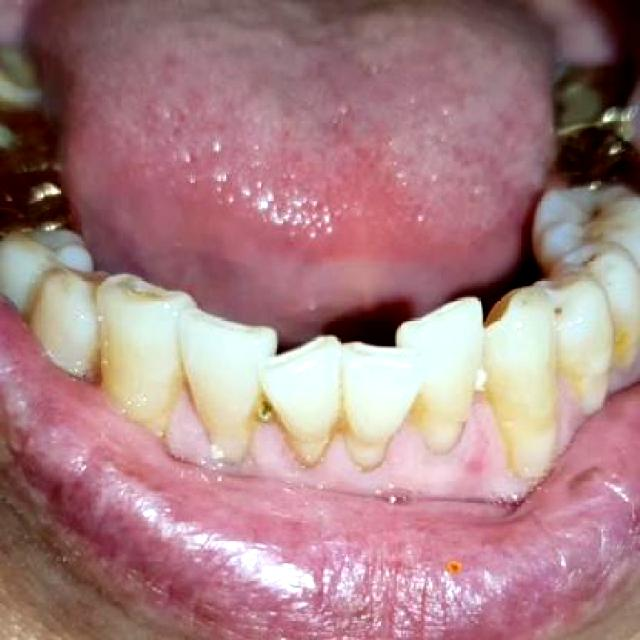Plaque: (169, 395, 528, 494), (557, 376, 586, 456), (571, 203, 607, 228), (579, 248, 609, 267), (549, 304, 570, 318)
